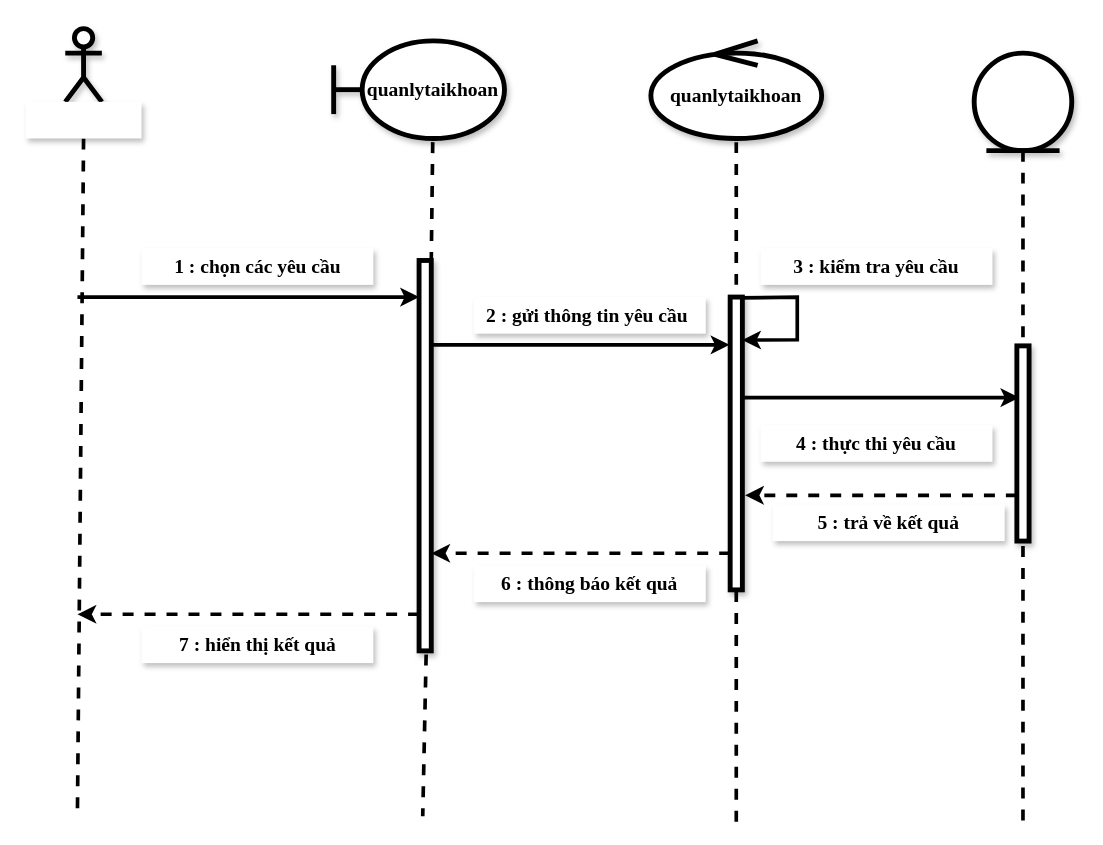
This 1103x845 diagram has some shape labels left out. The centre of each missing label's shape, as x and y in pixels:
Actor: [84,66]
admin: [84,121]
csdl: [1023,103]
